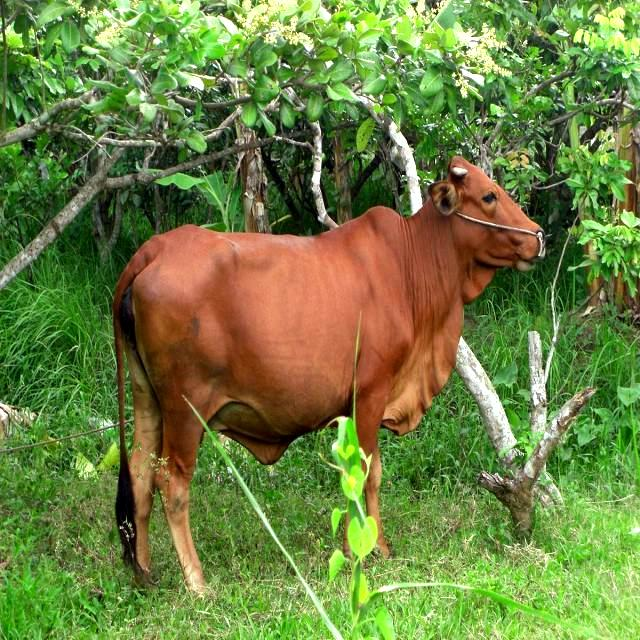COW: (114, 158, 544, 592)
